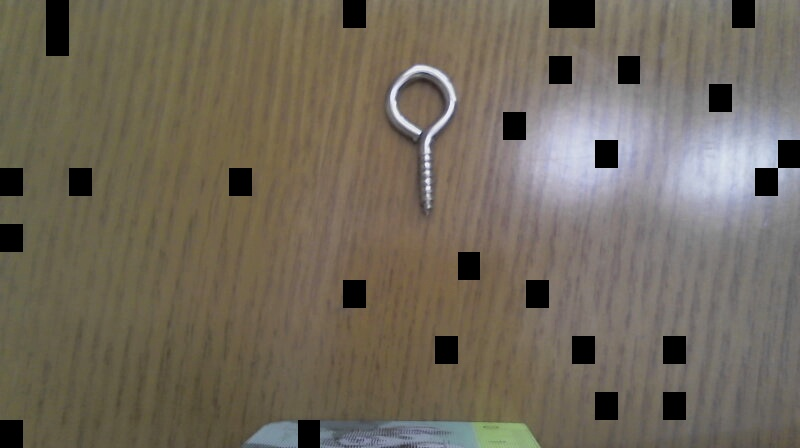O001: (378, 57, 464, 219)
